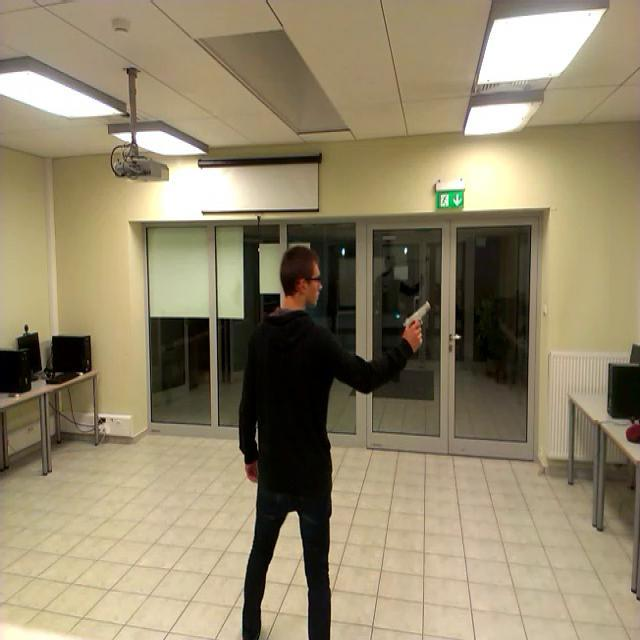Gun: (402, 300, 430, 338)
